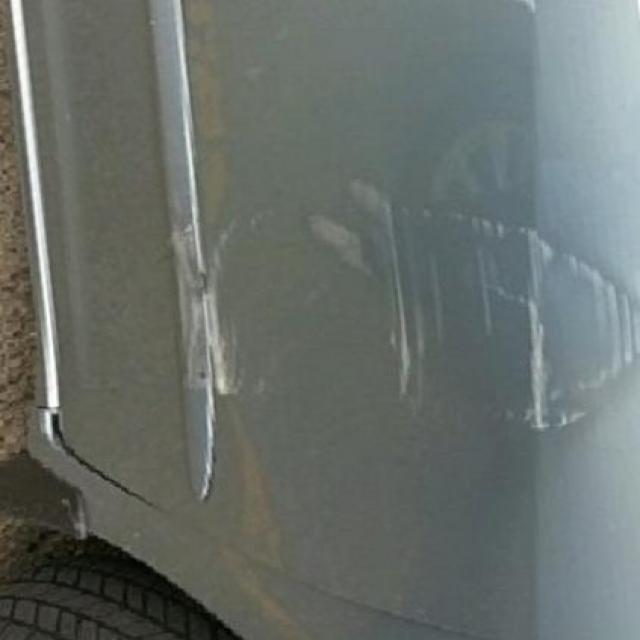scratch: (136, 156, 640, 474)
